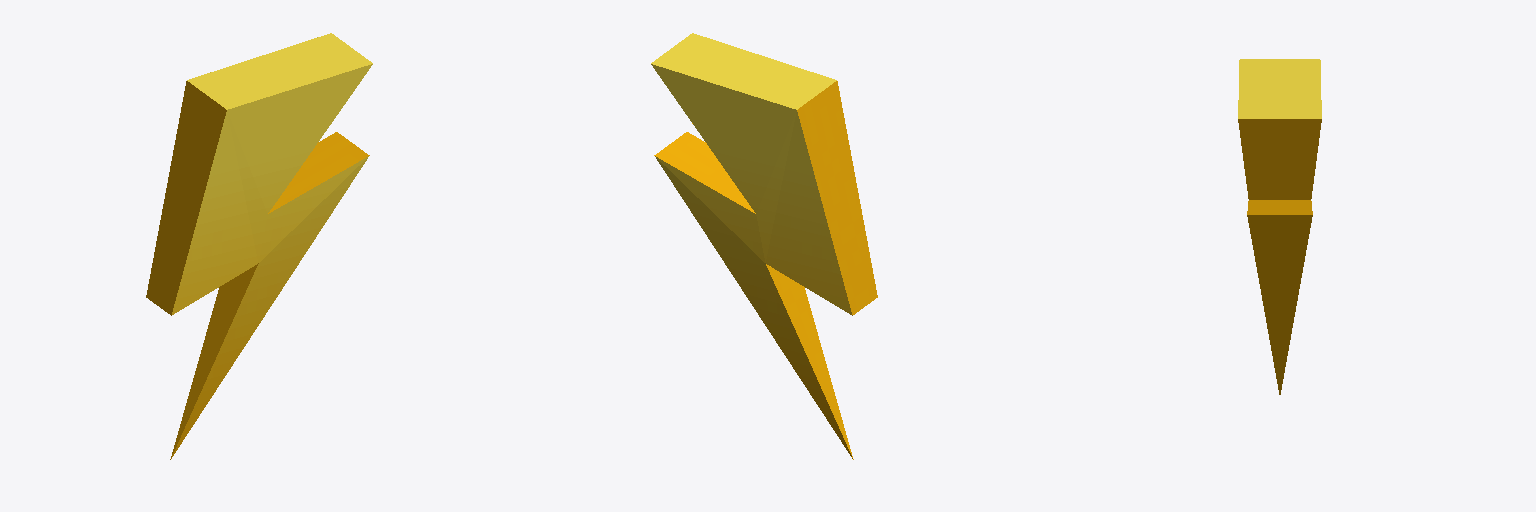
3 renders of one model, left to right at view 1: azimuth 30°, elevation 25°; view 2: azimuth 150°, elevation 25°; view 3: azimuth 270°, elevation 25°, orthographic.
Parts seen in each view (by area): view 1: g0; view 2: g0; view 3: g0.
Part boxes in pixels (x1,y1,x2,y2): g0: (146,33,372,459); g0: (651,33,877,459); g0: (1238,59,1321,394).
Size of the model in its own units: 1.16 by 2.1 by 0.4348.
1 materials, 1 textured.